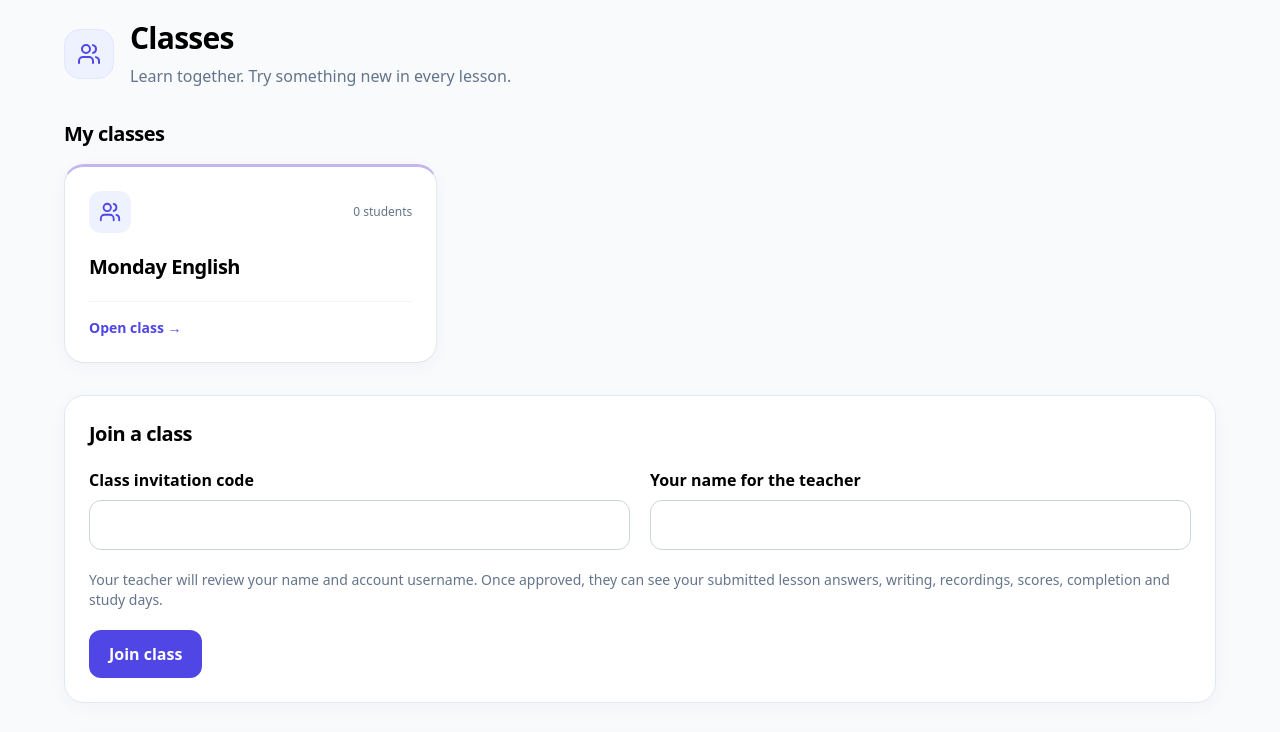
it: student and teacher class hide retained assignments while lessons remain (owner: false)
What coordinates should you click on to do the following:
click the button "0 students Monday English Open class →"
I would click on:
 (110, 212)
Its box is [64, 164, 437, 363].
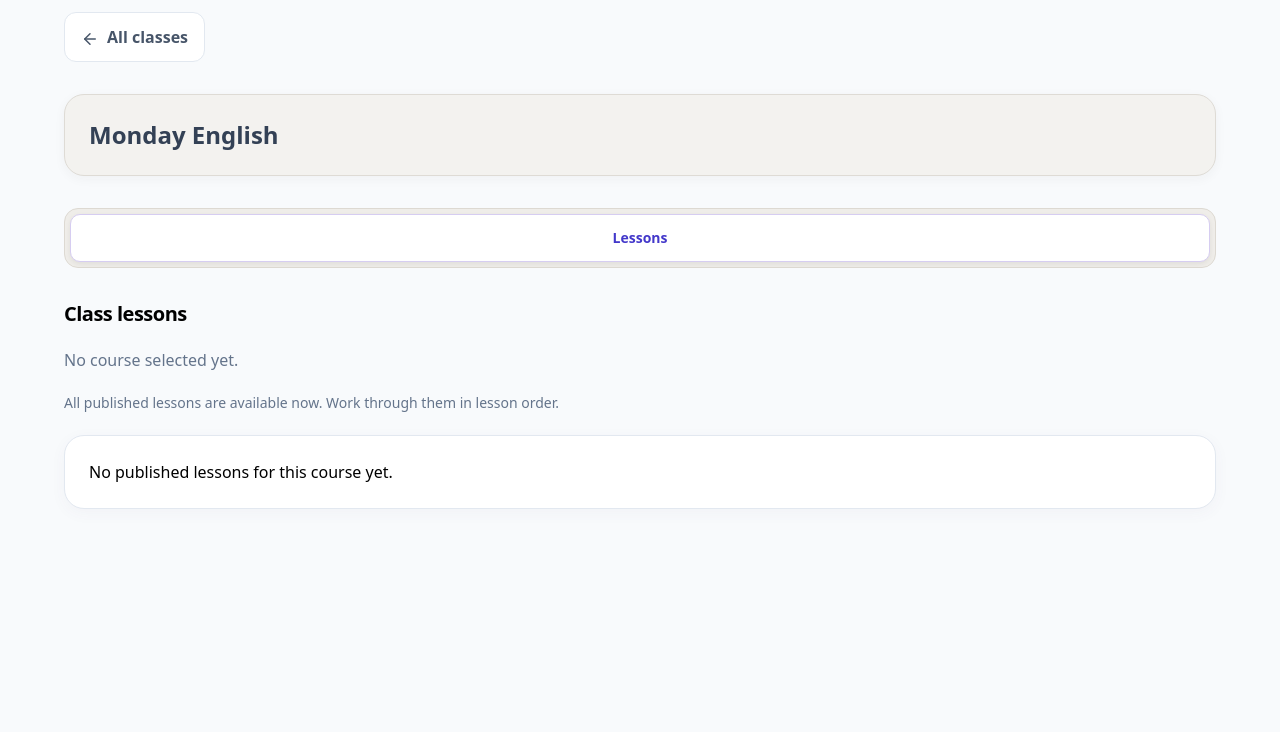
Now the heading "Class lessons" is shown, box [64, 300, 187, 328]
